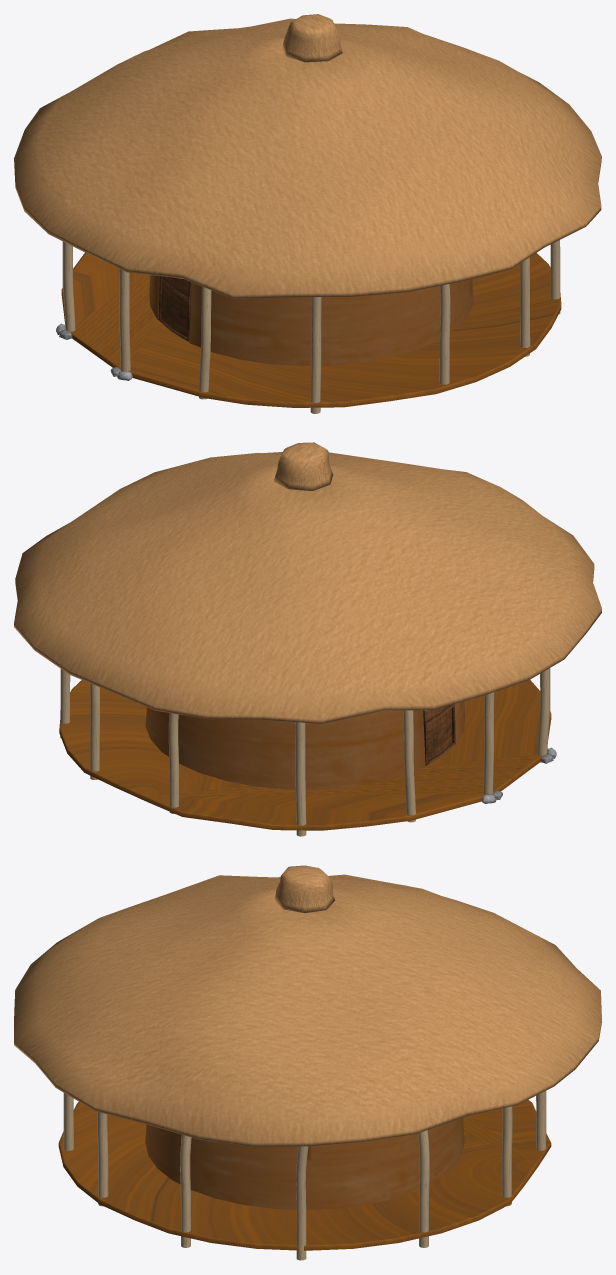
Rendered from House 3.fbx.
3 views of the same model, one above another, from view 1: azimuth 30°, elevation 25°; view 2: azimuth 150°, elevation 25°; view 3: azimuth 270°, elevation 25° (orthographic).
Parts seen in each view (by area): view 1: House.003; view 2: House.003; view 3: House.003.
Boxes of the visible parts, left/top/right/bottom form: House.003: left=14, top=14, right=601, bottom=413; House.003: left=14, top=442, right=601, bottom=836; House.003: left=14, top=865, right=601, bottom=1260.
Bounding box in the file's own units: 5.67 × 3.03 × 5.62.
